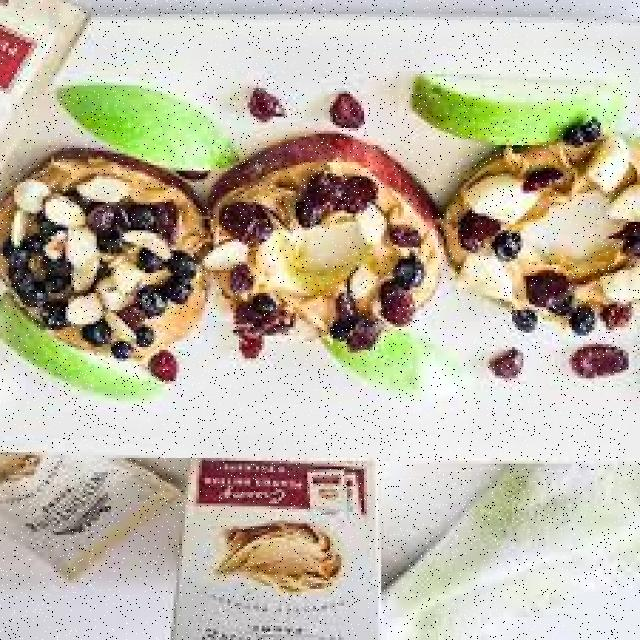Apple: (35, 85, 237, 163), (398, 72, 625, 136), (0, 317, 150, 401), (316, 333, 468, 395)
